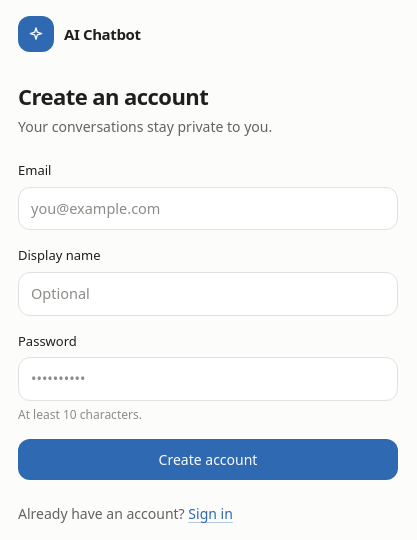
Scenario: register › surfaces field-level validation next to the input
The image size is (417, 540).
Type "a@b.c" into the field labelled "Email" at [208, 208], box [18,187,398,230]
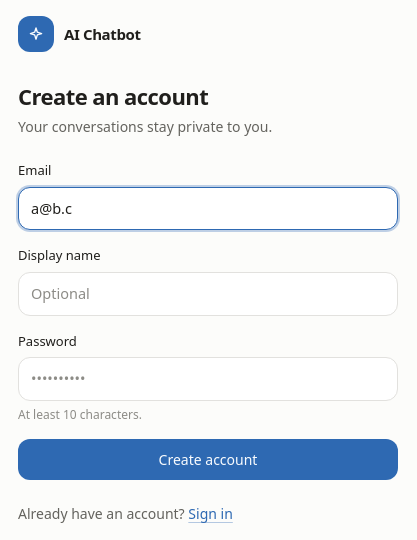
Type "short" into the password field labelled "Password" at [208, 379], box [18,357,398,401]
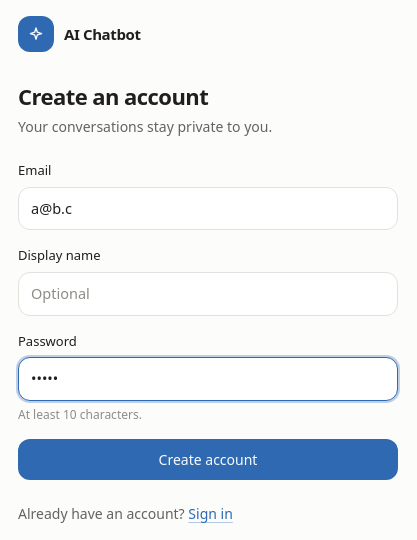
Click the button "Create account" at [208, 459], box [18,439,398,480]
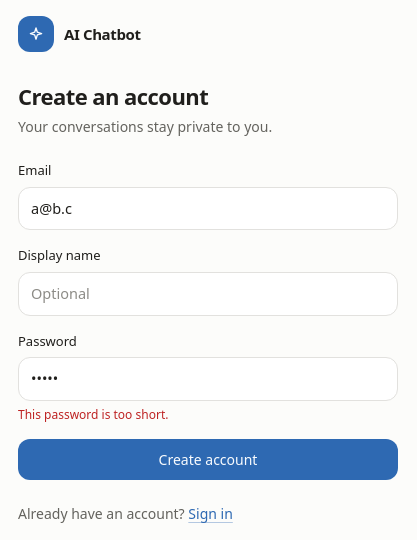
Now the text "This password is too short." is shown, box [18,406,168,423]
